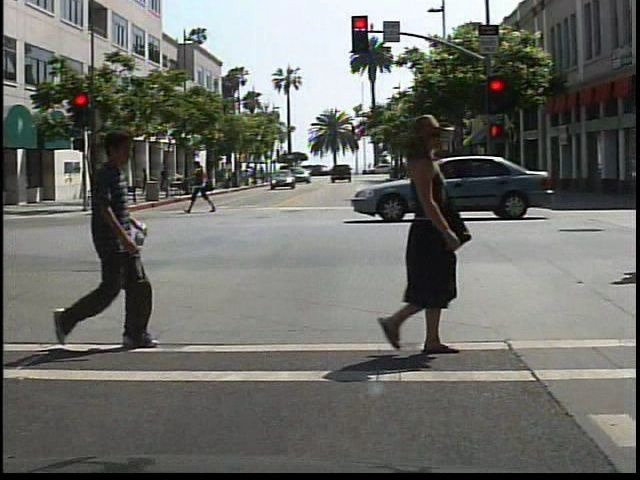person: (360, 118, 489, 359), (51, 126, 171, 352), (182, 156, 221, 217), (136, 164, 157, 205)
